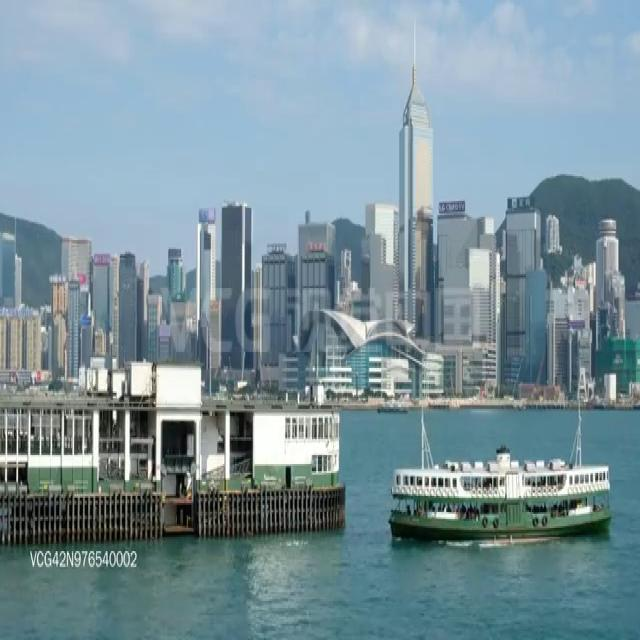passenger ship: (388, 404, 620, 542)
